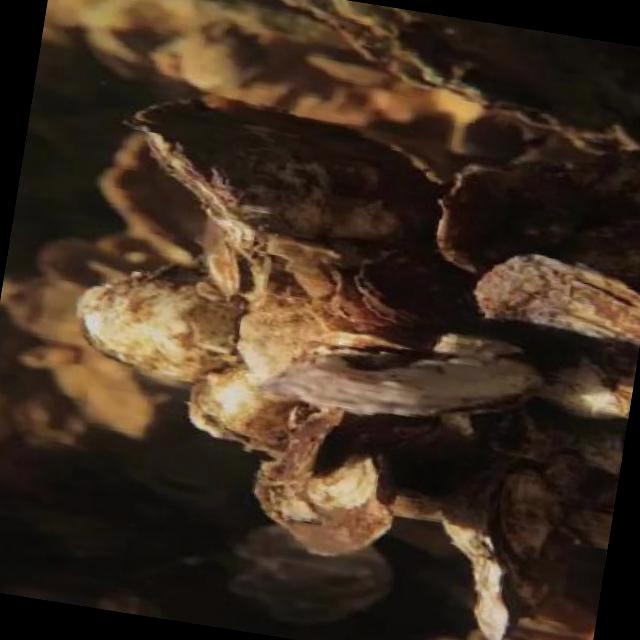Oyster-Closed: (133, 99, 436, 302), (285, 0, 639, 151), (269, 343, 549, 417), (77, 261, 245, 381), (438, 164, 585, 274), (473, 254, 639, 346), (99, 133, 208, 261), (254, 456, 390, 555), (352, 250, 463, 331), (196, 365, 305, 446), (62, 356, 147, 438), (236, 307, 326, 378), (485, 459, 548, 560), (533, 353, 622, 420), (281, 412, 366, 478), (10, 276, 87, 347), (40, 238, 135, 292), (468, 557, 518, 639), (514, 600, 590, 639), (206, 237, 237, 295)
Oyster-Open: (135, 464, 234, 512), (307, 329, 407, 360)
